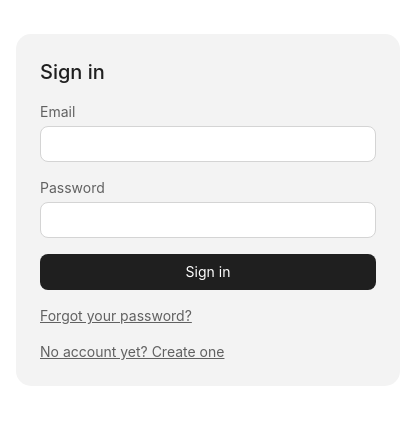
Scenario: AuthPage › shows the message of the server when the sign-in fails
This screenshot has width=417, height=421.
Type "a@b.de" into the field labelled "Email" at [208, 144], box top-left (40, 126), bottom-right (376, 162)
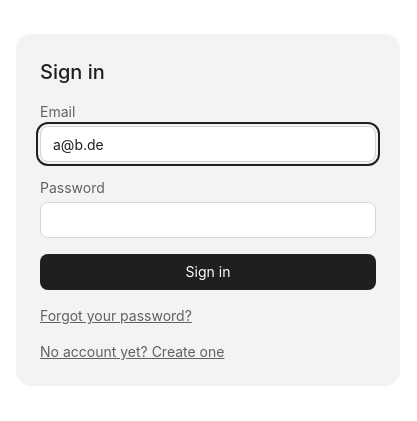
Type "wrong" into the password field labelled "Password" at [208, 220], box top-left (40, 202), bottom-right (376, 238)
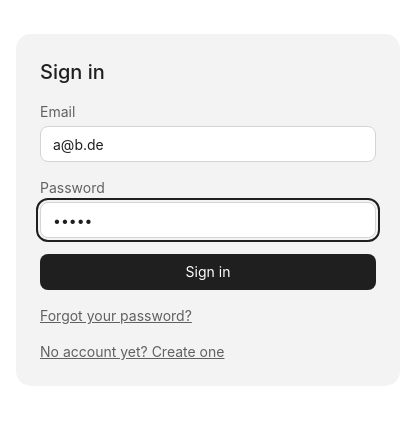
Click the button "Sign in" at [208, 272], box top-left (40, 254), bottom-right (376, 290)
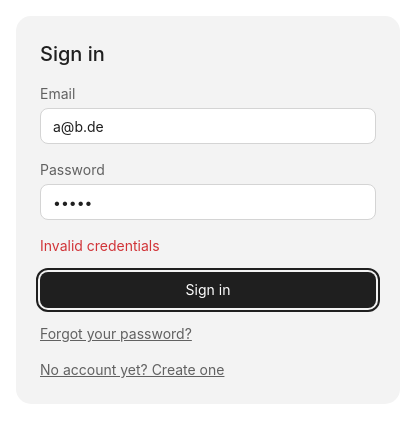
expect the message reads "Invalid credentials": met, box top-left (40, 237), bottom-right (160, 254)
